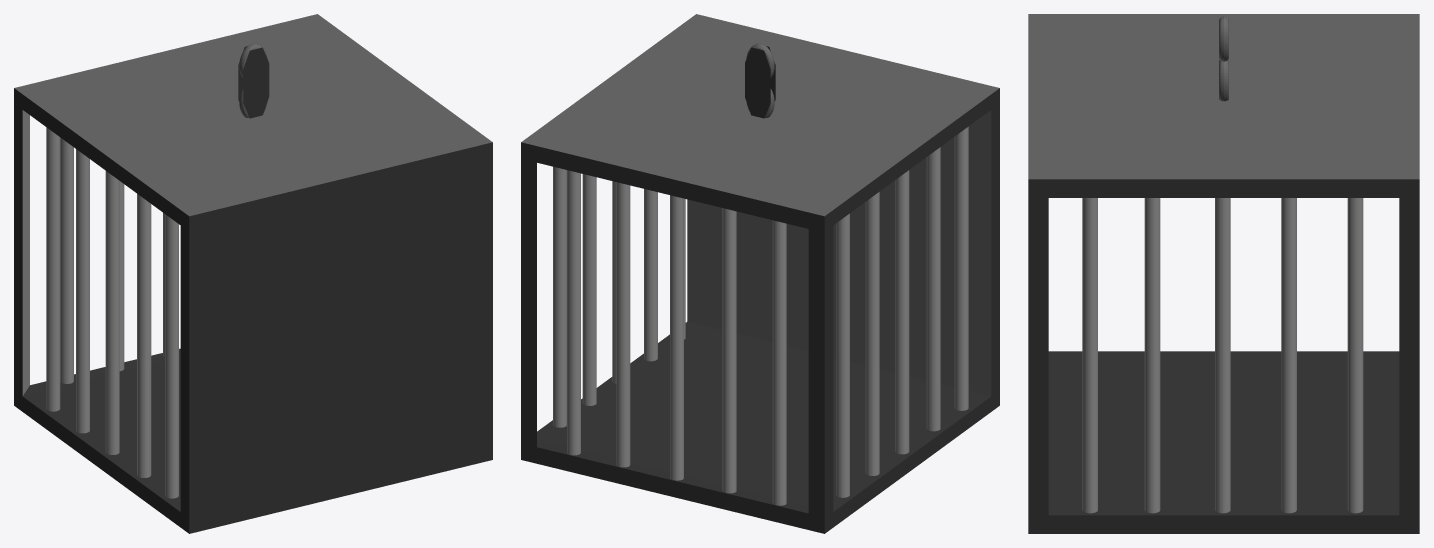
File: elevator.fbx
The picture shows the model from 3 angles, left to right: view 1: azimuth 30°, elevation 25°; view 2: azimuth 150°, elevation 25°; view 3: azimuth 270°, elevation 25°; orthographic projection. The views are drawn at different scales.
Parts seen in each view (by area): view 1: Cube; view 2: Cube; view 3: Cube.
Part boxes in pixels (bbox=[...]): Cube: bbox=[14, 14, 492, 533]; Cube: bbox=[521, 14, 999, 533]; Cube: bbox=[1028, 14, 1419, 533].
Bounding box in the file's own units: 295 × 361 × 295.
